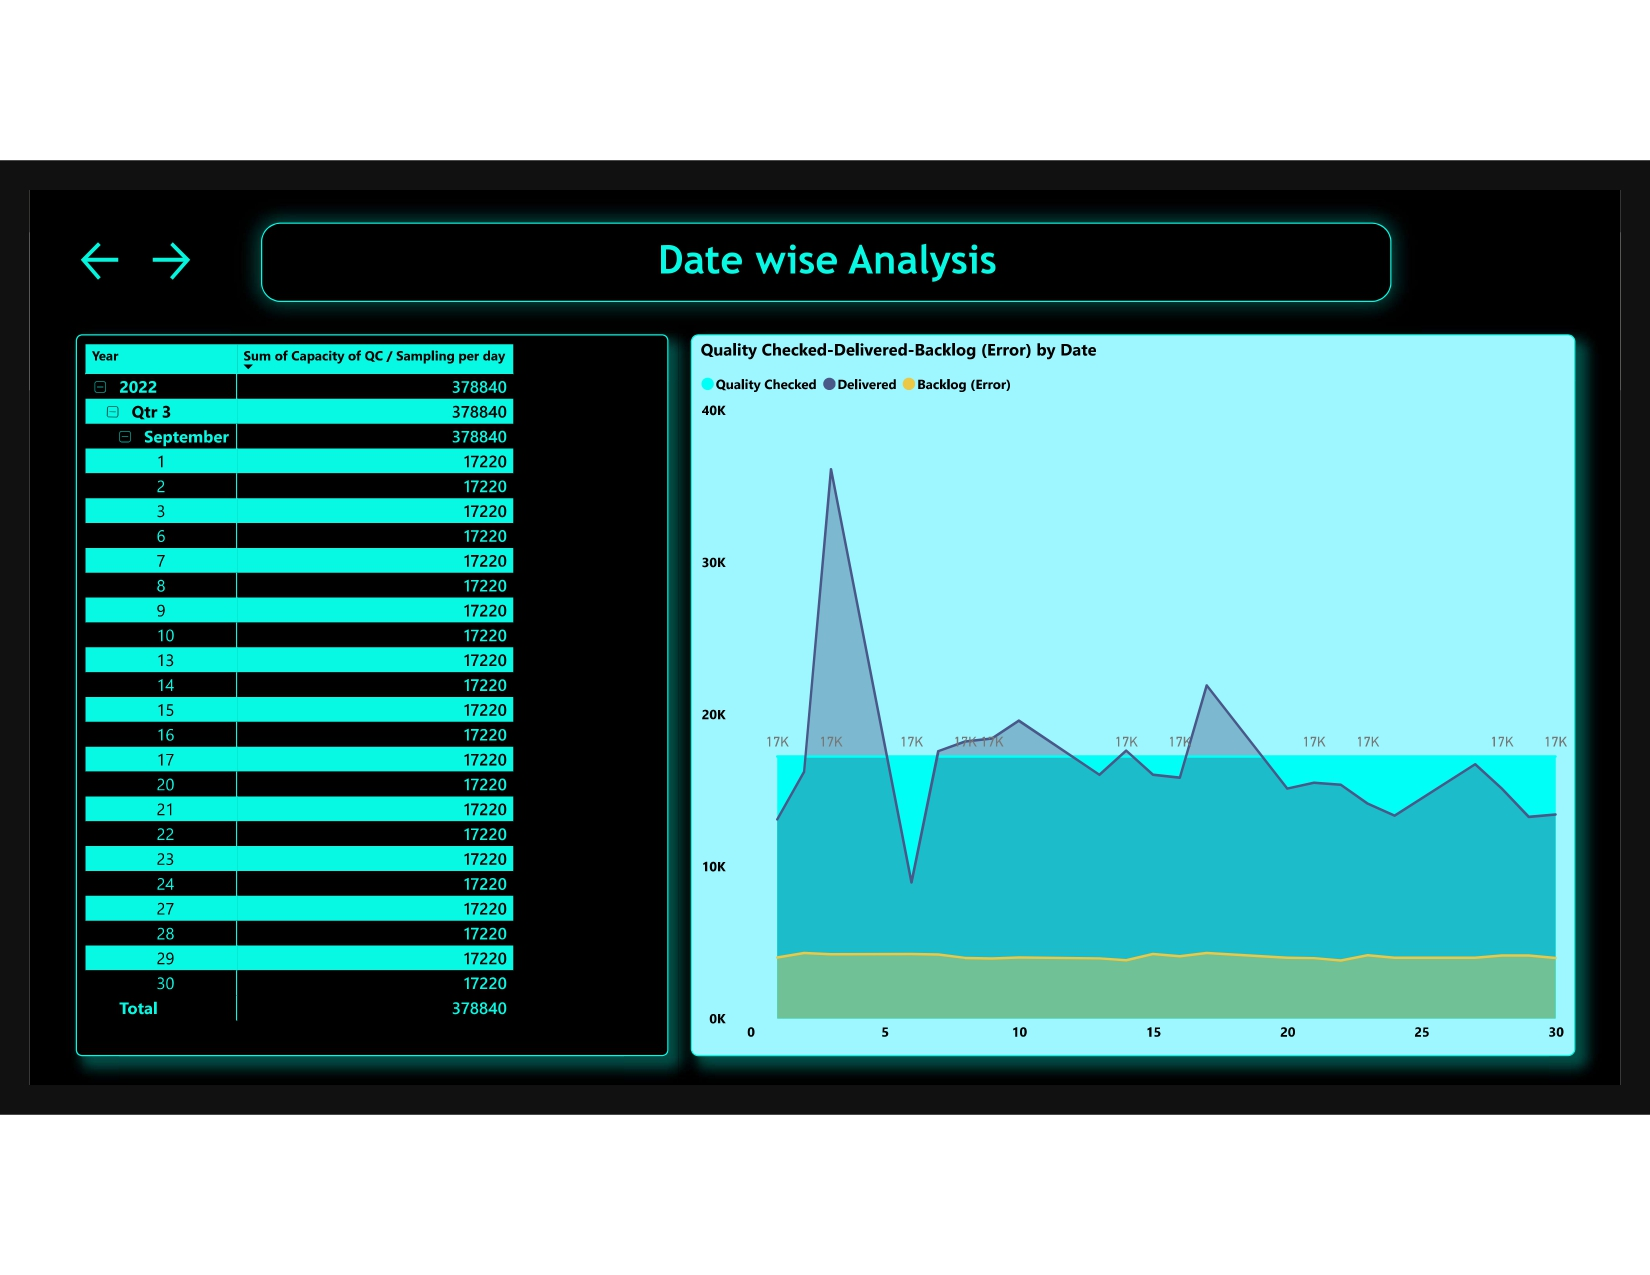

The page's visual inventory and layout, read from the dashboard file:
{"tool":"powerbi","page":{"name":"Date Wise Analysis","canvas":[1280,720],"ordinal":4},"visuals":[{"type":"textbox","box":[185.7,25.9,910,63.9],"z":0},{"type":"actionButton","box":[37.2,37.2,56.5,40.1],"z":0,"group":"g1"},{"type":"actionButton","box":[93.7,37.2,65.4,40.1],"z":1000,"group":"g1"},{"type":"pivotTable","fields":{"Values":["Sum(Sep.Capacity of QC / Sampling per day)"],"Rows":["Sep.Date.Variation.Date Hierarchy.Year","Sep.Date.Variation.Date Hierarchy.Quarter","Sep.Date.Variation.Date Hierarchy.Month","Sep.Date.Variation.Date Hierarchy.Day"]},"box":[37.2,115.9,477.1,581.2],"z":1000},{"type":"areaChart","title":"Quality Checked-Delivered-Backlog (Error) by Date","fields":{"Y":["Sum(Sep.Capacity of QC / Sampling per day)","Sum(Sep.Delivered)","Sum(Sep.Backlog (Error))"],"Category":["Sep.Date.Variation.Date Hierarchy.Day"]},"box":[532.1,115.9,712,581.2],"z":2000},{"type":"group","id":"g1","title":"Group 1","box":[37.2,37.2,121.9,40.1],"z":2001}]}

Visuals, with their boxes on the page's 1280x720 design canvas (x1, y1, x2, y2). These are canvas units, not pixel positions in the 1650x1275 screenshot, which may show the page scaled, cropped or inside an application window:
textbox: (186,26,1096,90)
actionButton: (37,37,94,77)
actionButton: (94,37,159,77)
pivotTable - Sum(Sep.Capacity of QC / Sampling per day) x Sep.Date.Variation.Date Hierarchy.Year: (37,116,514,697)
"Quality Checked-Delivered-Backlog (Error) by Date" areaChart: (532,116,1244,697)
"Group 1" group: (37,37,159,77)
